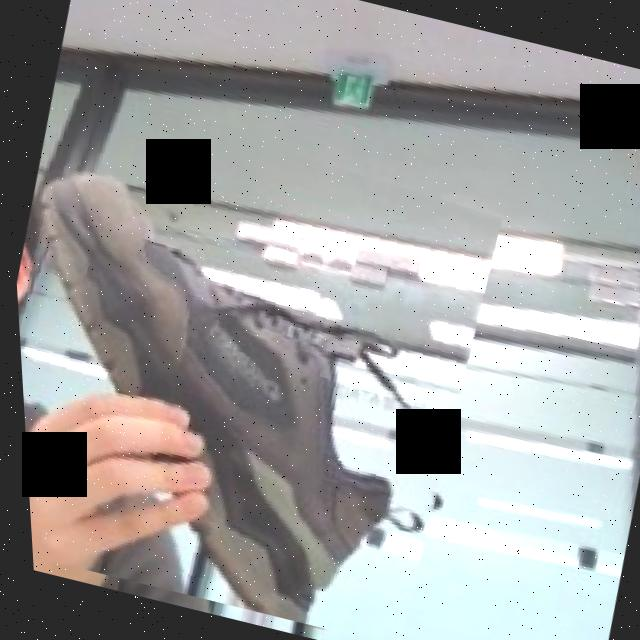shoe: (4, 80, 525, 640)
